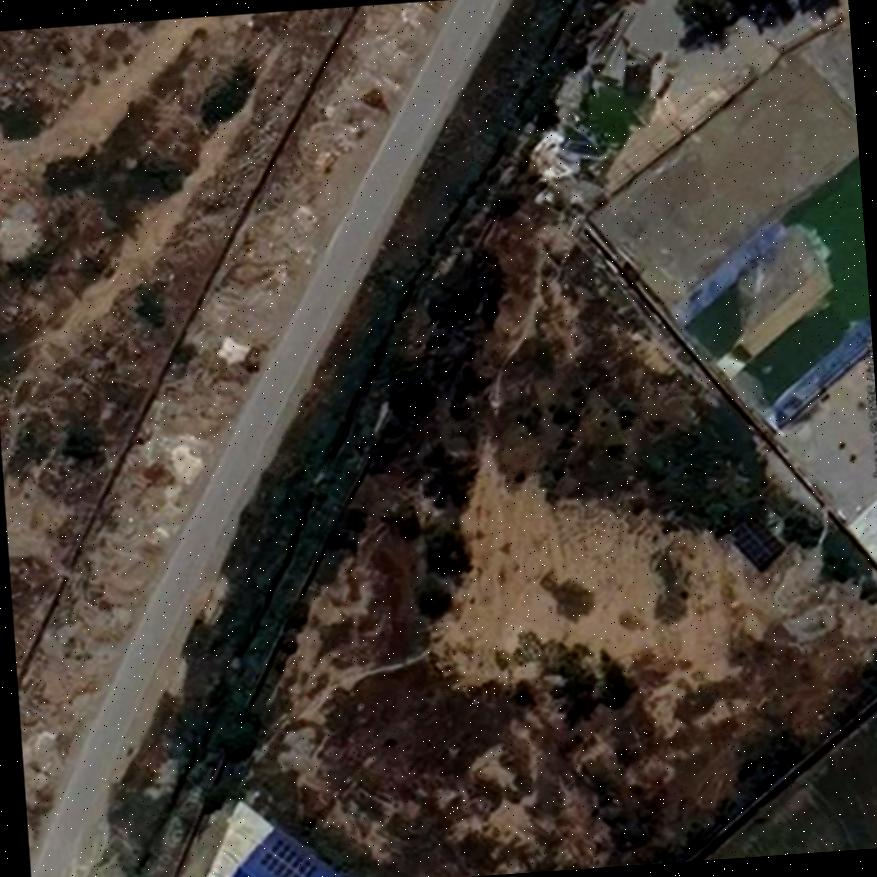Solarpanel: (728, 512, 786, 568), (258, 838, 318, 877)
